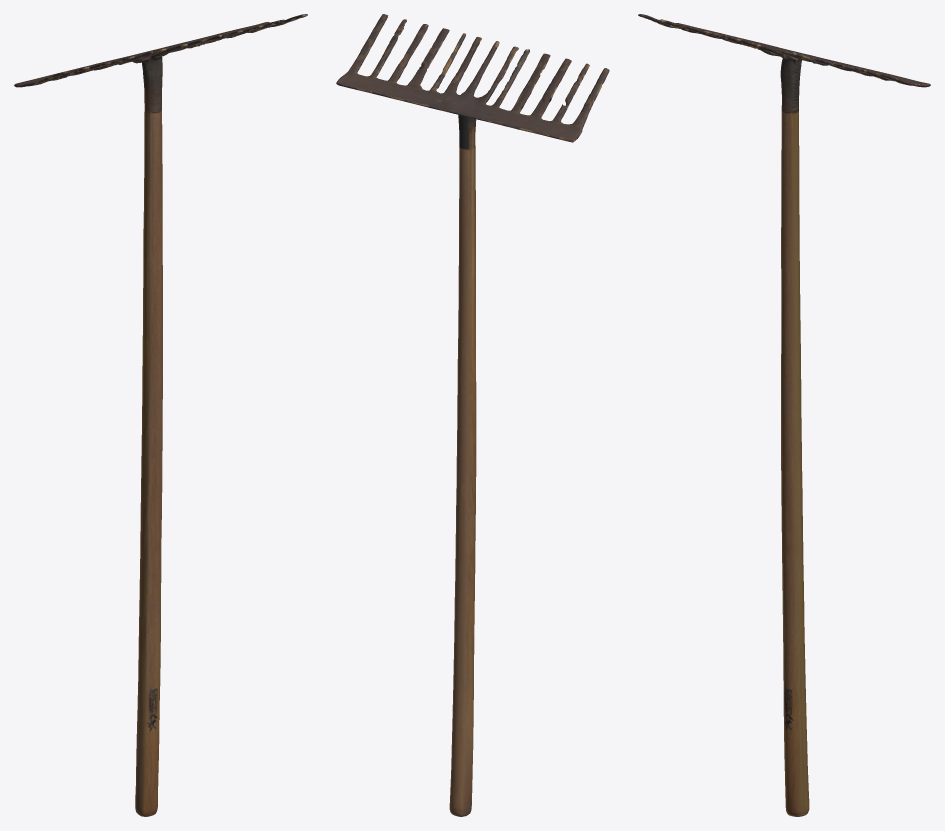
The model's file is Garden_Rake_Measureme_0804003759_texture.fbx.
3 views of the same model, side by side, from view 1: azimuth 30°, elevation 25°; view 2: azimuth 150°, elevation 25°; view 3: azimuth 330°, elevation 25° (orthographic). The views are drawn at different scales.
Visible parts, largest first — view 1: input; view 2: input; view 3: input.
Boxes of the visible parts, left/top/right/bottom form: input: left=14, top=14, right=307, bottom=816; input: left=336, top=14, right=609, bottom=816; input: left=638, top=14, right=930, bottom=816.
Bounding box in the file's own units: 67.02 × 200 × 21.37.
Materials: 1 (1 with a texture image).
